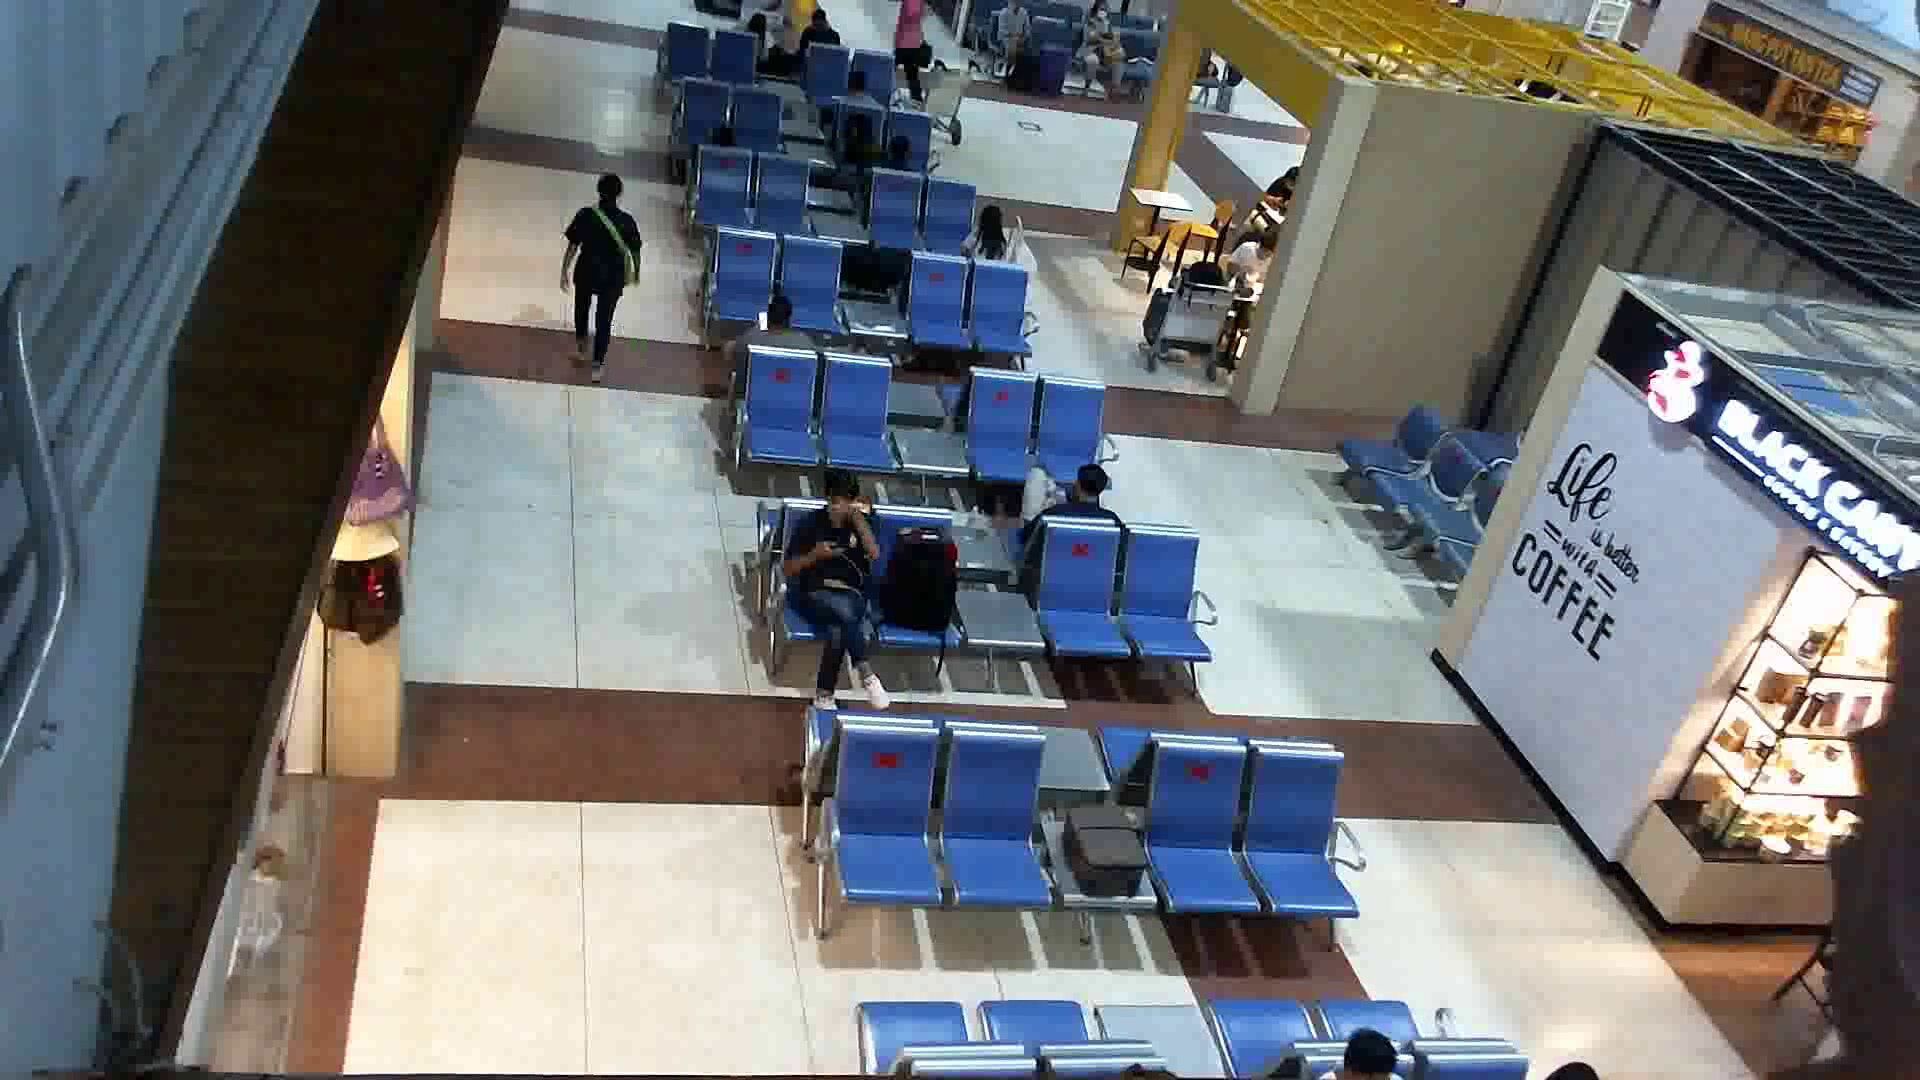luggage: (1055, 796, 1157, 910), (880, 515, 962, 639)
people: (786, 462, 893, 723), (546, 157, 658, 386)
